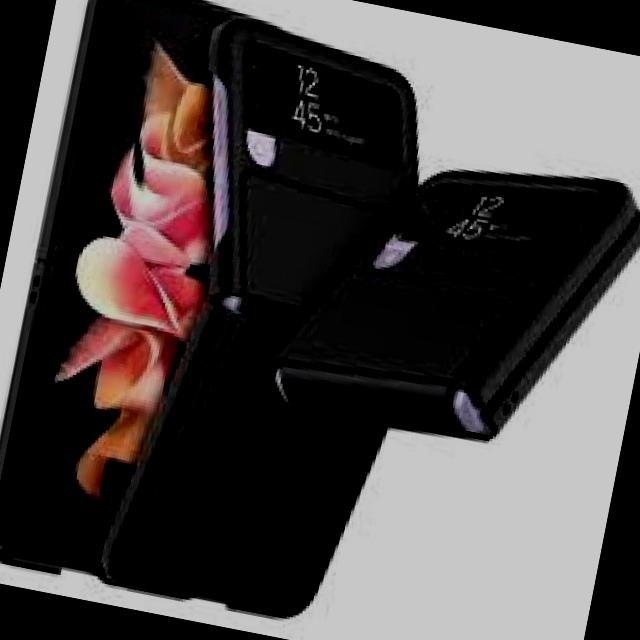lens_back: (230, 42, 276, 90), (388, 204, 438, 244), (235, 86, 279, 128), (420, 178, 464, 214)
phone: (108, 6, 464, 636), (0, 0, 262, 599), (263, 111, 640, 476)
